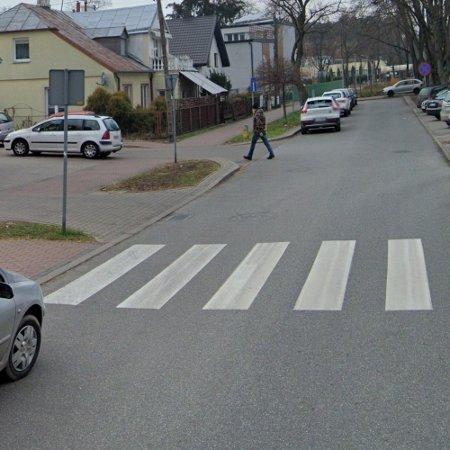crosswalks: (40, 238, 432, 310)
